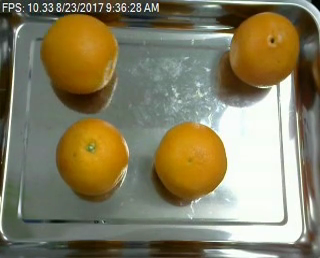Orange: (40, 13, 118, 92), (54, 117, 130, 197), (153, 120, 228, 201), (229, 10, 301, 87)
